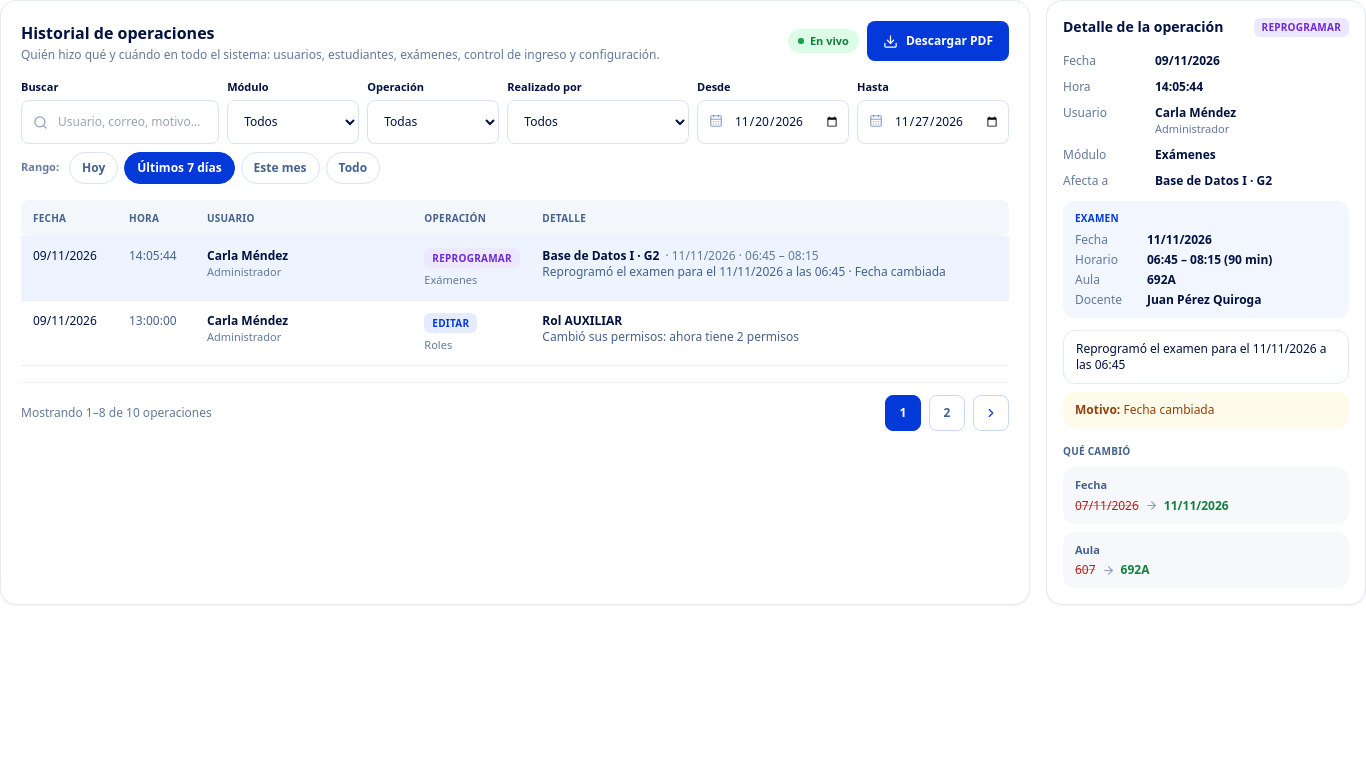
Scenario: Historial de operaciones del ADMIN › descarga en PDF con los filtros activos (vista previa como el resto de exportaciones)
The image size is (1366, 768).
Later steps or results of the test are not shown.
Expected: the text "Mostrando 1–8 de 10 operaciones" is shown, 21,404 -> 212,420
Select "Roles" in the dropdown labelled "Módulo" at (293, 122), box 227,100 -> 359,144
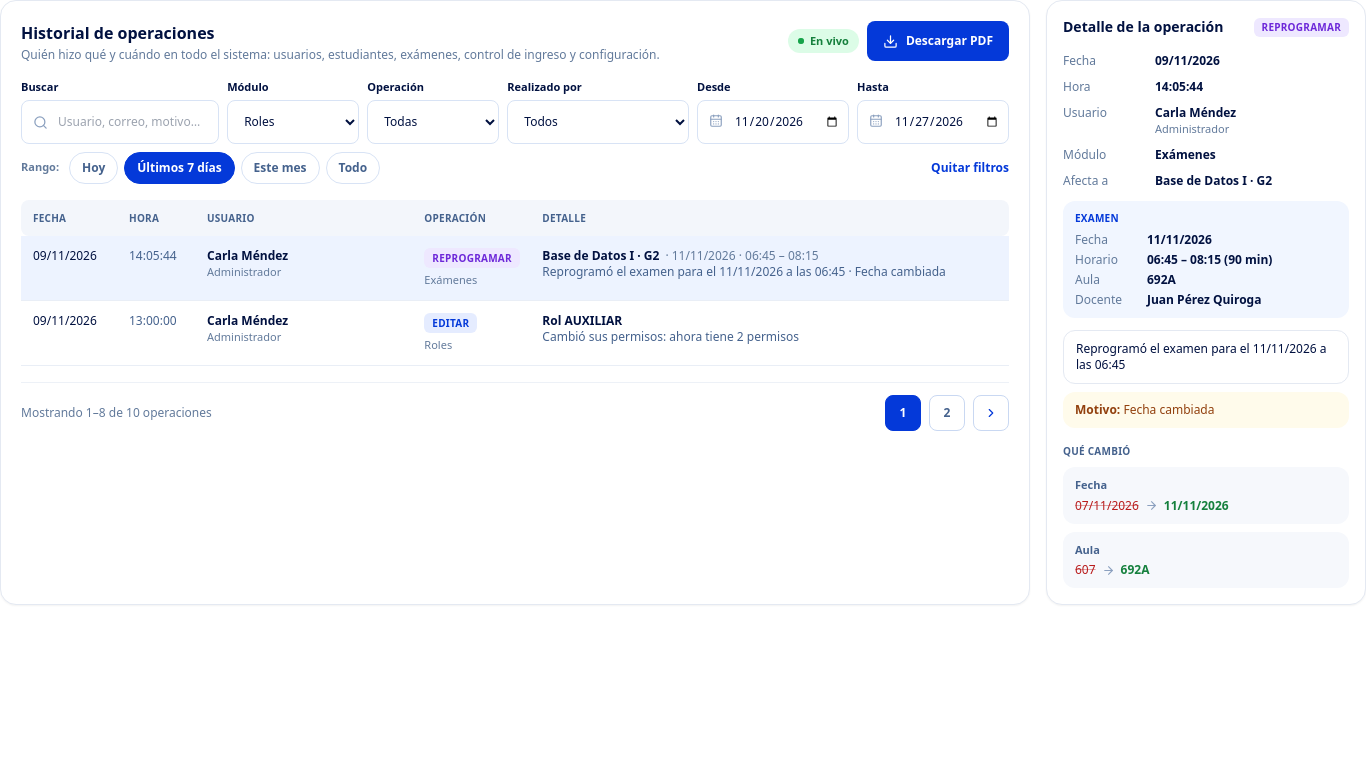
Click the button with aria-label "Exportar el historial en PDF" at (938, 41), box 867,21 -> 1009,61
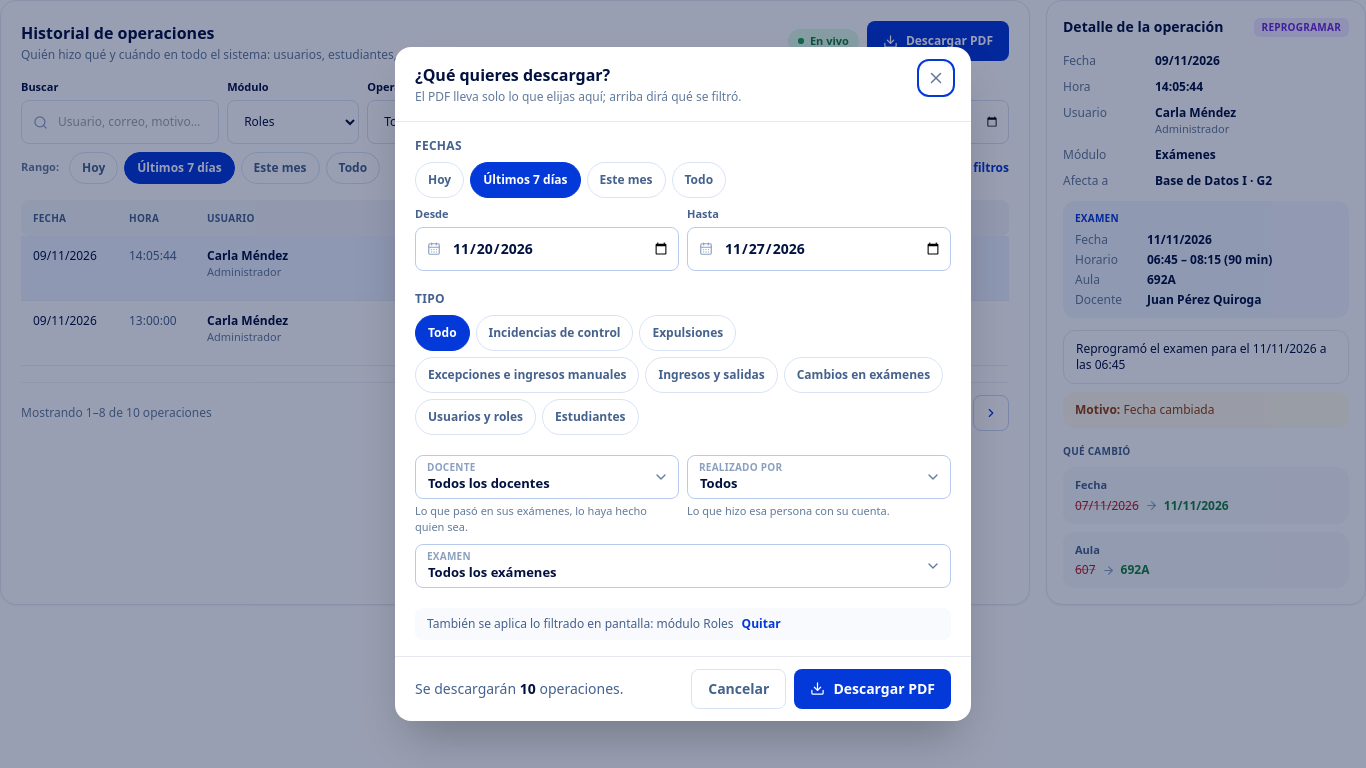
Now the text "Se descargarán 10 operaciones." is shown, box 415,679 -> 624,699
Now the text "módulo Roles" is shown, box 656,615 -> 734,632
